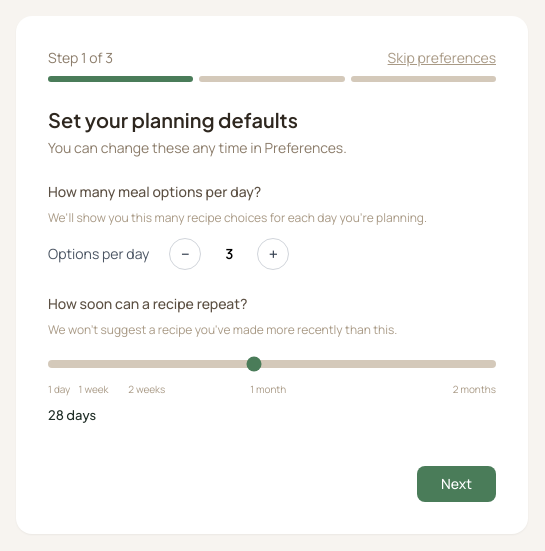
OnboardingFlow - step navigation › T08 - Back button navigates to previous step without saving
The image size is (545, 551).
Go to step 2
Click the button "Next".
click(456, 484)  # box 417,466 -> 496,502
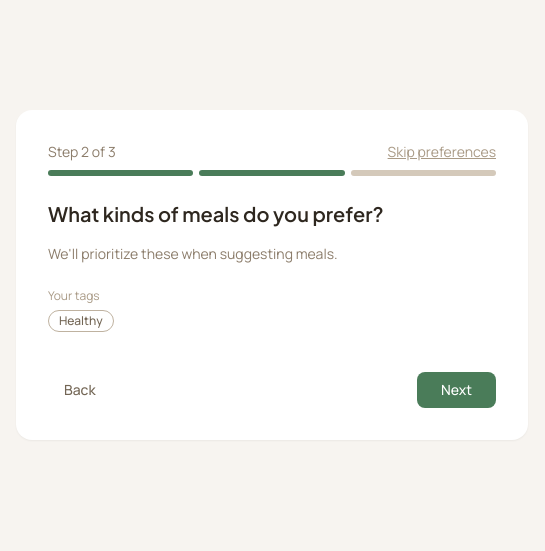
Check: the text "Step 2 of 3" is shown, box 48,142 -> 116,162
Go back to step 1
Click the button "Back".
click(80, 390)  # box 48,372 -> 112,408
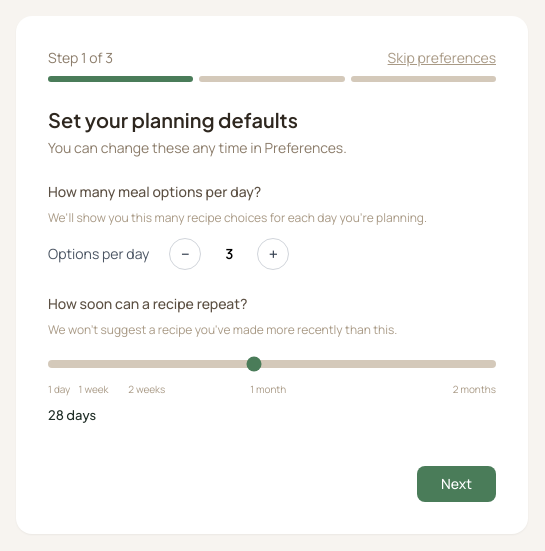
Check: the text "Step 1 of 3" is shown, box 48,48 -> 113,68
